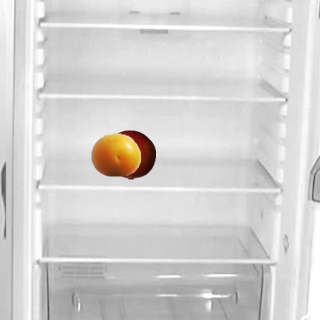Apple Braeburn: (105, 129, 155, 179)
Cherry Wax Yellow: (90, 129, 140, 179)
